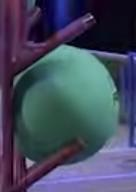algae: (12, 44, 118, 165), (27, 0, 35, 13)
